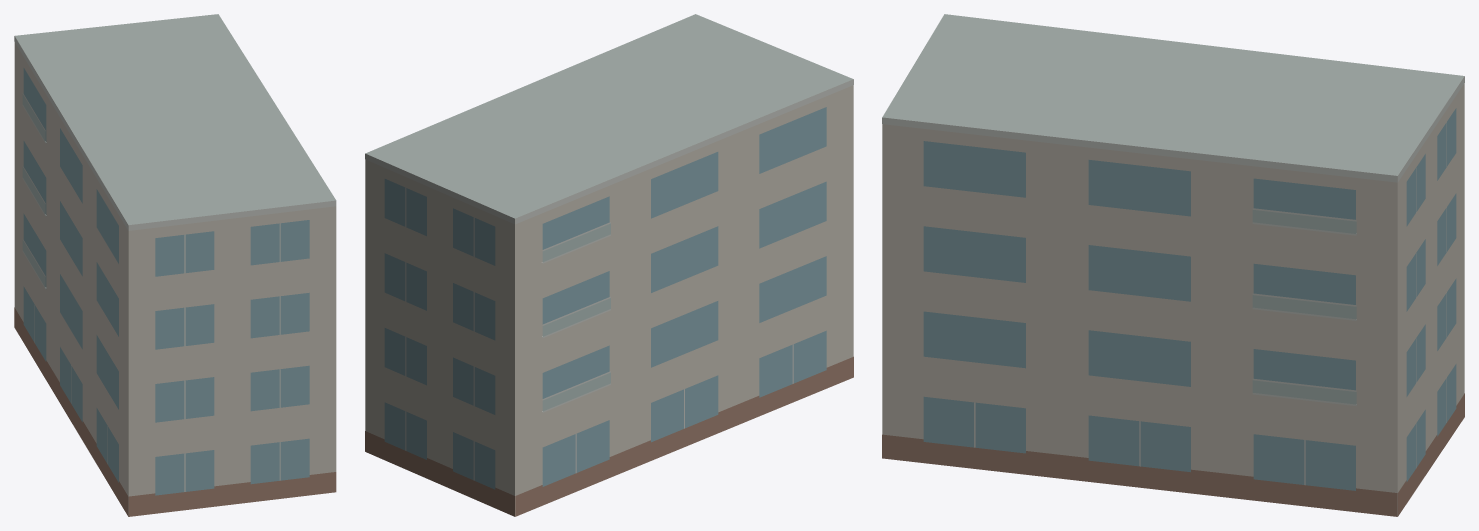
The model's file is survey-upis-32764590.glb.
3 renders of one model, left to right at view 1: azimuth 30°, elevation 25°; view 2: azimuth 150°, elevation 25°; view 3: azimuth 270°, elevation 25°, orthographic. The views are drawn at different scales.
Parts seen in each view (by area): view 1: survey-upis-32764590.tmp; view 2: survey-upis-32764590.tmp; view 3: survey-upis-32764590.tmp.
Part boxes in pixels (left/top/right/bottom): survey-upis-32764590.tmp: left=14, top=14, right=336, bottom=516; survey-upis-32764590.tmp: left=365, top=14, right=853, bottom=516; survey-upis-32764590.tmp: left=882, top=14, right=1464, bottom=516.
Size of the model in its own units: 12.64 by 12.4 by 19.21.
